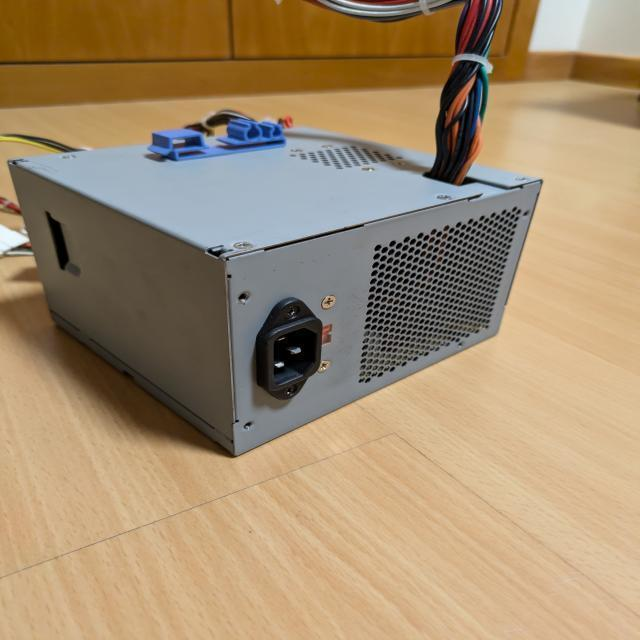PSU: (7, 125, 544, 459)
